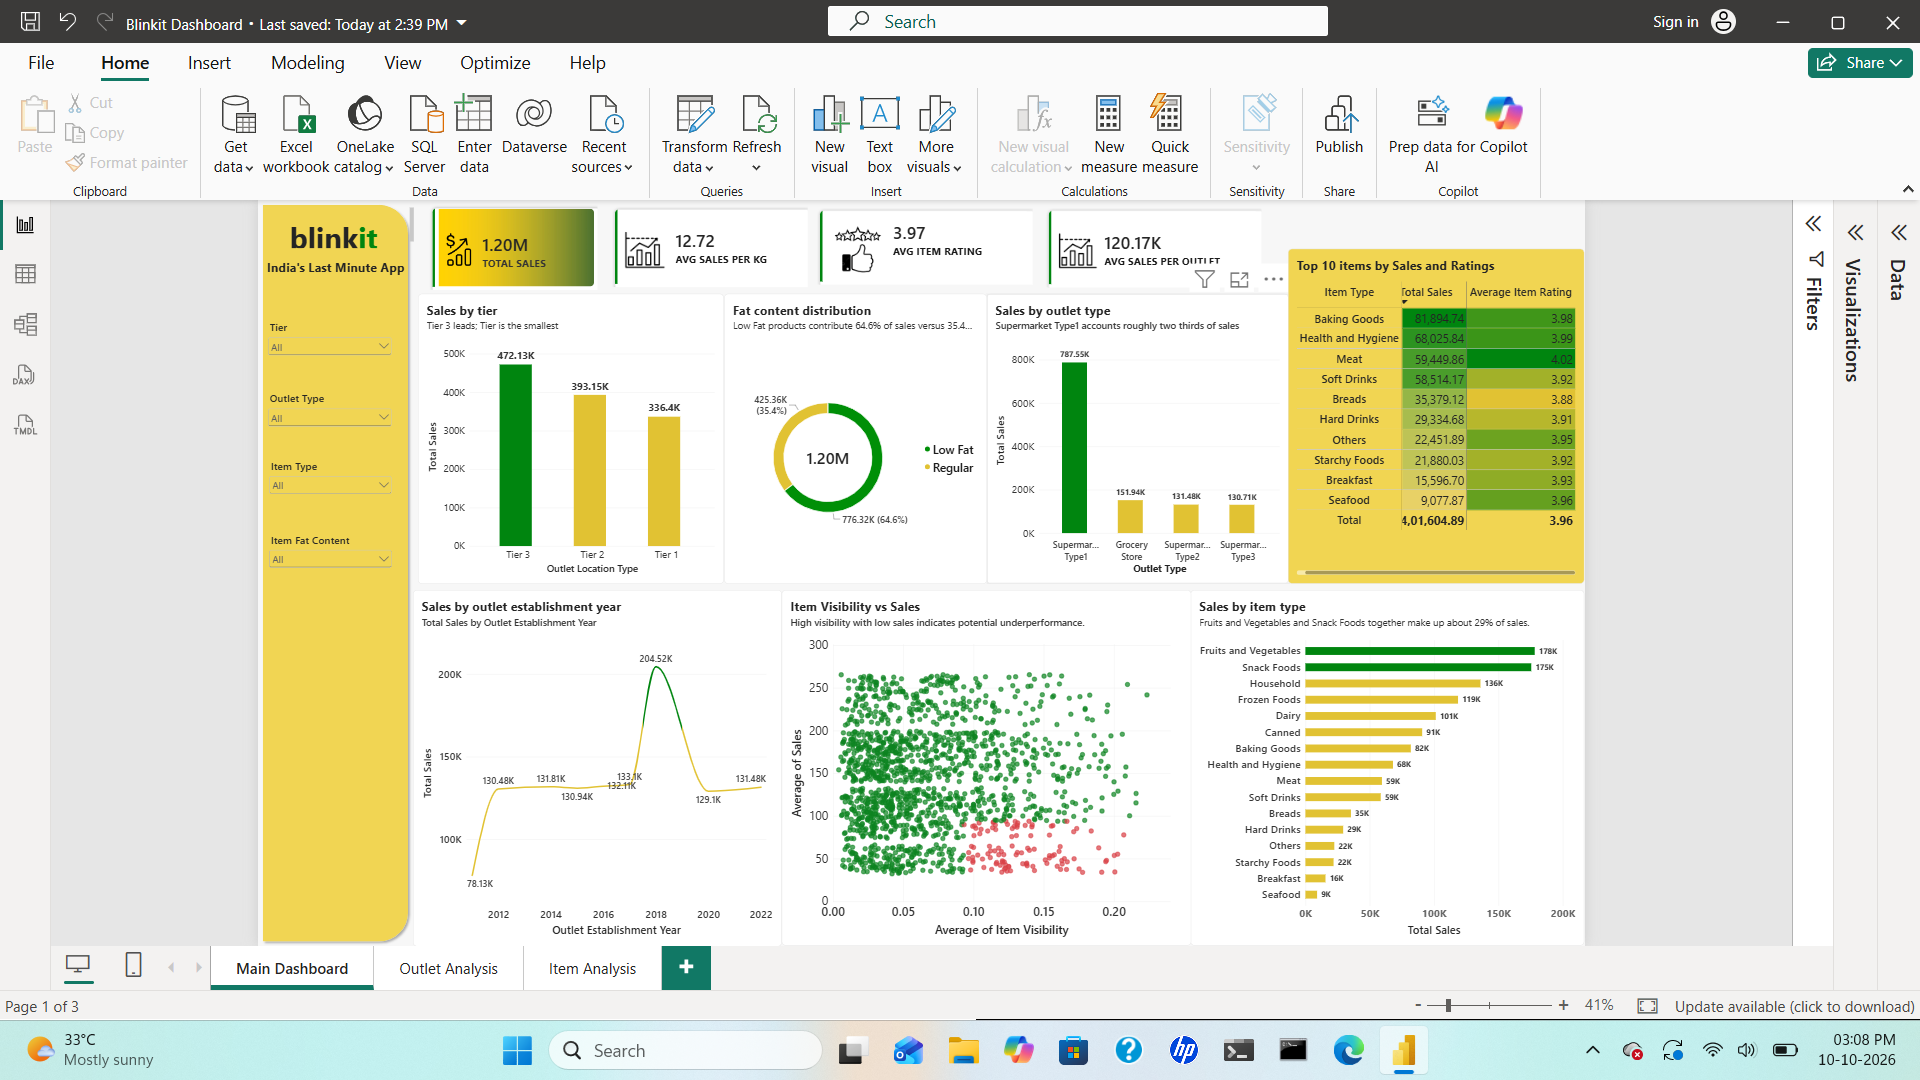

The dashboard page shown, as its layout file describes it:
{"tool":"powerbi","page":{"name":"Main Dashboard","canvas":[2560,1440],"ordinal":0},"visuals":[{"type":"shape","box":[0,0,298.7,1440.3],"z":0},{"type":"textbox","box":[0,14.4,300.5,78.2],"z":1000},{"type":"textbox","box":[7.2,94.1,286.1,65.9],"z":2000},{"type":"cardVisual","fields":{"Data":["BlinkIT Grocery Data.Total Sales"]},"box":[330.6,9.7,325.7,164.1],"z":3000},{"type":"cardVisual","fields":{"Data":["BlinkIT Grocery Data.Average Sales per Kg"]},"box":[682.8,12.1,378.8,156.8],"z":4000},{"type":"cardVisual","fields":{"Data":["BlinkIT Grocery Data.Average Item Rating"]},"box":[1078.6,14.5,417.4,149.6],"z":5000},{"type":"cardVisual","fields":{"Data":["BlinkIT Grocery Data.Average Sales per Outlet"]},"box":[1520.1,14.5,417.4,154.4],"z":6000},{"type":"barChart","title":"Sales by item type","fields":{"Category":["Items.Item Type"],"Y":["BlinkIT Grocery Data.Total Sales"]},"box":[1800,753.3,760,686.7],"z":7000},{"type":"clusteredColumnChart","title":"Sales by outlet type","fields":{"Category":["Outlet Info.Outlet Type"],"Y":["Sum(BlinkIT Grocery Data.Sales)"]},"box":[1407.5,180,582.5,560],"z":8000},{"type":"clusteredColumnChart","title":"Sales by tier","fields":{"Category":["Outlet Location.Outlet Location Type"],"Y":["BlinkIT Grocery Data.Total Sales"]},"box":[310,180,590,560],"z":9000},{"type":"lineChart","title":"Sales by outlet establishment year","fields":{"Category":["Outlet Info.Outlet Establishment Year"],"Y":["BlinkIT Grocery Data.Total Sales"]},"box":[299.2,752.8,711.8,687.7],"z":10000},{"type":"donutChart","title":"Fat content distribution","fields":{"Category":["Items Content.Item Fat Content"],"Y":["BlinkIT Grocery Data.Total Sales"]},"box":[900,180,507.5,560],"z":11000},{"type":"scatterChart","title":"Item Visibility vs Sales","fields":{"Category":["BlinkIT Grocery Data.Item Identifier"],"X":["Avg(BlinkIT Grocery Data.Item Visibility Clean)"],"Y":["Avg(BlinkIT Grocery Data.Sales)"]},"box":[1010,753.3,790,686.7],"z":12000},{"type":"pivotTable","title":"Top 10 items by Sales and Ratings","fields":{"Rows":["Items.Item Type"],"Values":["BlinkIT Grocery Data.Total Sales","BlinkIT Grocery Data.Average Item Rating"]},"box":[1988.2,94.1,571.9,646.7],"z":13000},{"type":"slicer","fields":{"Values":["Outlet Location.Outlet Location Type"]},"box":[14.5,231.6,248.5,111],"z":14000},{"type":"slicer","fields":{"Values":["Outlet Info.Outlet Type"]},"box":[14.5,369.2,248.5,91.7],"z":15000},{"type":"slicer","fields":{"Values":["Items.Item Type"]},"box":[16.9,499.5,246.1,89.3],"z":16000},{"type":"slicer","fields":{"Values":["Items Content.Item Fat Content"]},"box":[16.9,641.8,246.1,77.2],"z":17000}]}

Visuals, with their boxes on the page's 2560x1440 design canvas (x1, y1, x2, y2). These are canvas units, not pixel positions in the 1920x1080 screenshot, which may show the page scaled, cropped or inside an application window:
shape: locate(0, 0, 299, 1440)
textbox: locate(0, 14, 300, 93)
textbox: locate(7, 94, 293, 160)
cardVisual - BlinkIT Grocery Data.Total Sales: locate(331, 10, 656, 174)
cardVisual - BlinkIT Grocery Data.Average Sales per Kg: locate(683, 12, 1062, 169)
cardVisual - BlinkIT Grocery Data.Average Item Rating: locate(1079, 14, 1496, 164)
cardVisual - BlinkIT Grocery Data.Average Sales per Outlet: locate(1520, 14, 1938, 169)
"Sales by item type" barChart: locate(1800, 753, 2560, 1440)
"Sales by outlet type" clusteredColumnChart: locate(1408, 180, 1990, 740)
"Sales by tier" clusteredColumnChart: locate(310, 180, 900, 740)
"Sales by outlet establishment year" lineChart: locate(299, 753, 1011, 1440)
"Fat content distribution" donutChart: locate(900, 180, 1408, 740)
"Item Visibility vs Sales" scatterChart: locate(1010, 753, 1800, 1440)
"Top 10 items by Sales and Ratings" pivotTable: locate(1988, 94, 2560, 741)
slicer - Outlet Location.Outlet Location Type: locate(14, 232, 263, 343)
slicer - Outlet Info.Outlet Type: locate(14, 369, 263, 461)
slicer - Items.Item Type: locate(17, 500, 263, 589)
slicer - Items Content.Item Fat Content: locate(17, 642, 263, 719)
